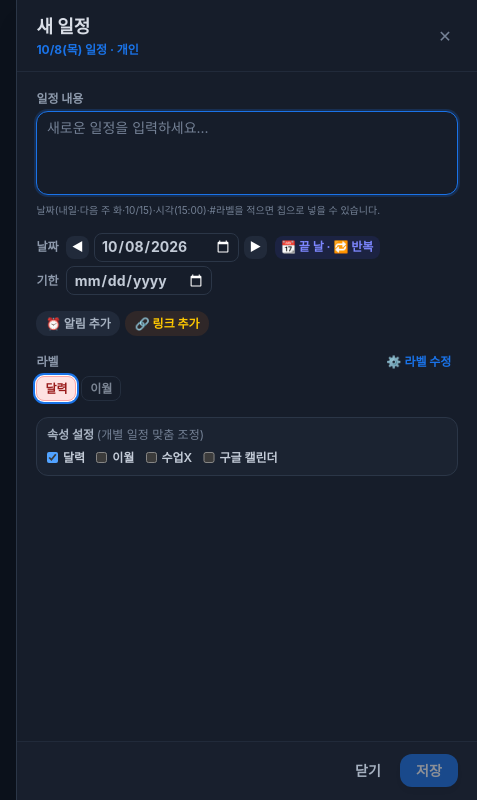
Test: 새 일정 › 라벨을 바꾸면 그 라벨 속성이 따라 켜진다
Click the button "이월". click: point(101, 389)
box: [81,376,121,401]
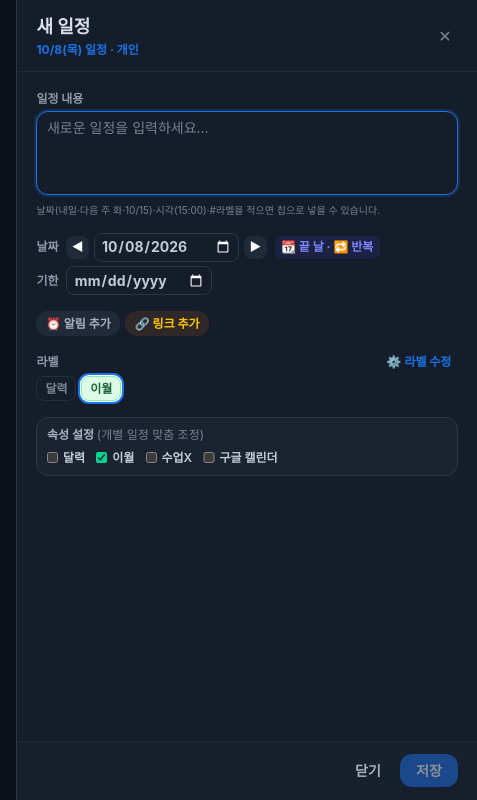
Result: the checkbox labelled "이월" is checked at [96,452,108,463]
Result: the checkbox labelled "달력" is not checked at [47,452,58,463]
Click the button "달력". click: point(56, 389)
box: [36,376,76,401]
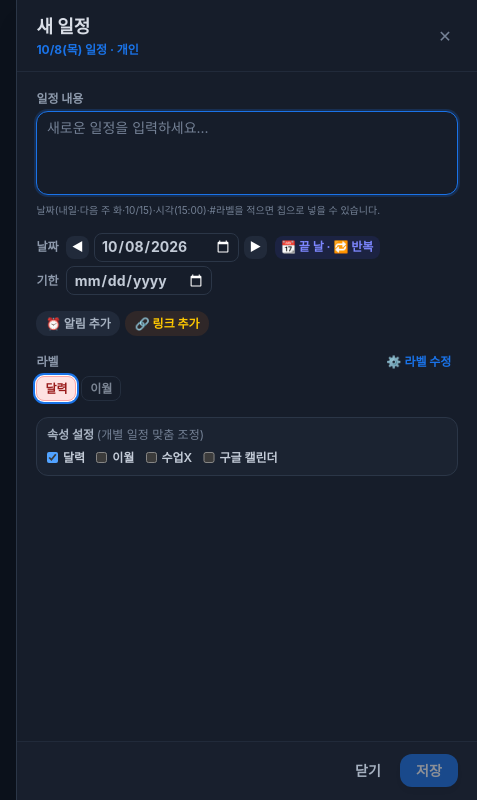
Result: the checkbox labelled "달력" is checked at [47,452,58,463]
Result: the checkbox labelled "이월" is not checked at [96,452,108,463]
